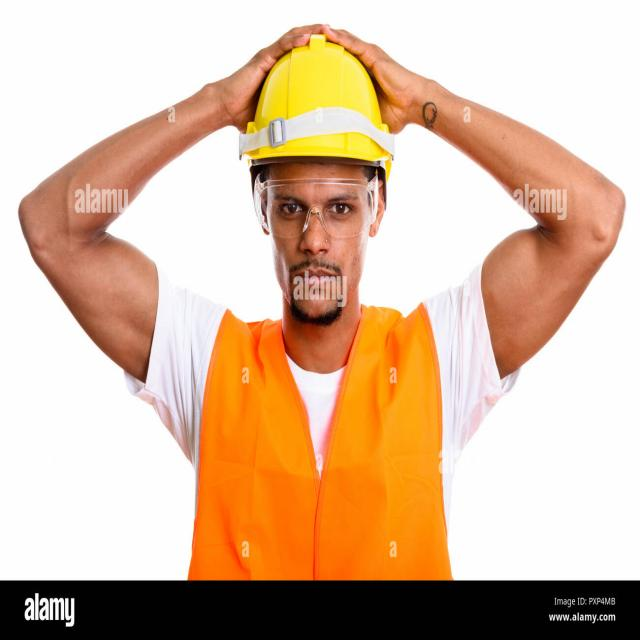Helmet: (224, 32, 412, 182)
Protective Glasses: (226, 160, 408, 242)
